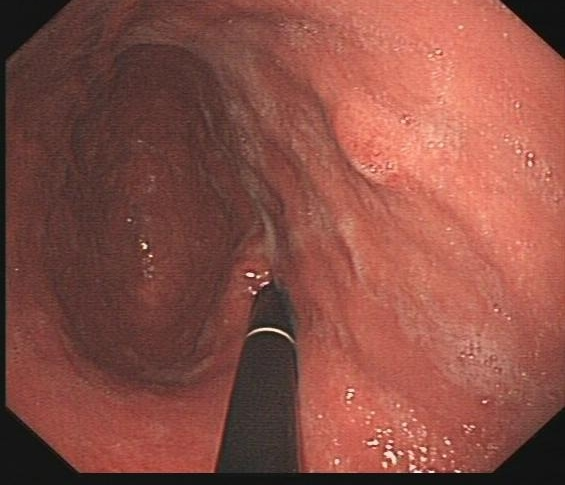Polyp: (328, 101, 410, 195)
